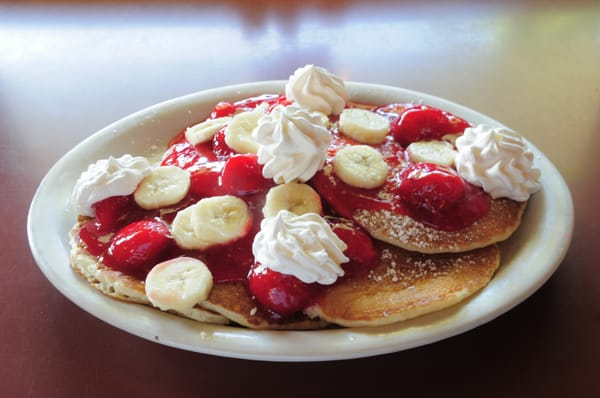curry: (28, 1, 599, 390)
